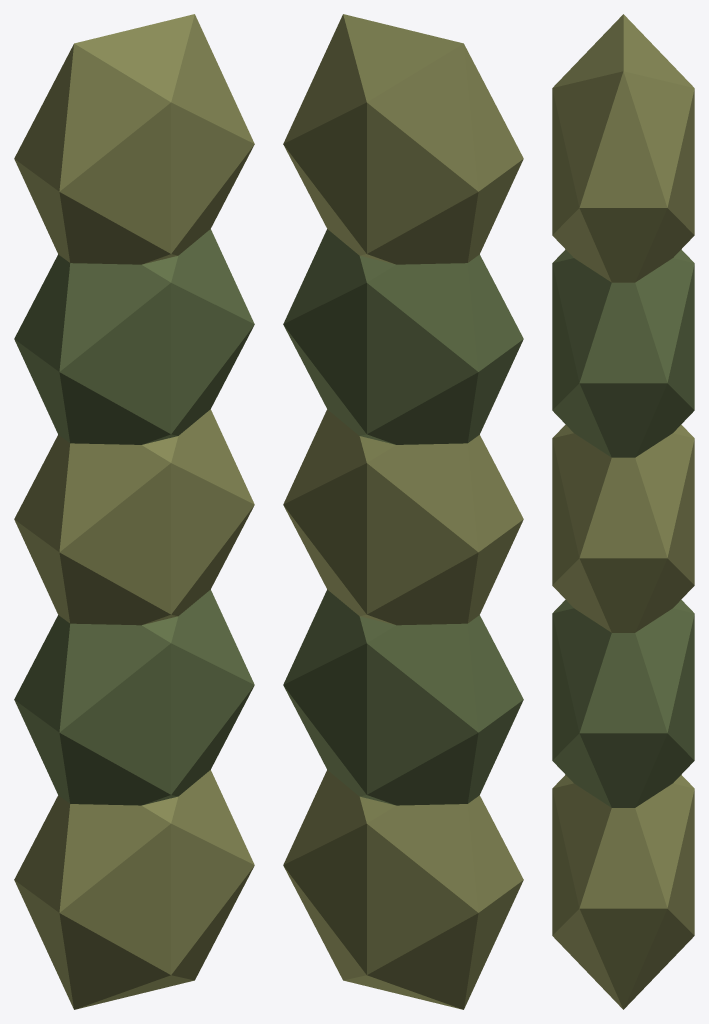
File: vines.glb
3 views of the same model, side by side, from view 1: azimuth 30°, elevation 25°; view 2: azimuth 150°, elevation 25°; view 3: azimuth 270°, elevation 25° (orthographic). The views are drawn at different scales.
Visible parts, largest first — view 1: wind-leaf-0-surface, wind-leaf-4-surface, wind-leaf-2-surface, wind-leaf-1-surface, wind-leaf-3-surface; view 2: wind-leaf-0-surface, wind-leaf-4-surface, wind-leaf-2-surface, wind-leaf-1-surface, wind-leaf-3-surface; view 3: wind-leaf-0-surface, wind-leaf-4-surface, wind-leaf-2-surface, wind-leaf-1-surface, wind-leaf-3-surface.
Part boxes in pixels (x1,y1,x2,y2): wind-leaf-0-surface: (14, 14, 254, 264); wind-leaf-4-surface: (14, 770, 254, 1009); wind-leaf-2-surface: (14, 409, 254, 625); wind-leaf-1-surface: (14, 229, 254, 444); wind-leaf-3-surface: (14, 589, 254, 805); wind-leaf-0-surface: (283, 14, 523, 264); wind-leaf-4-surface: (283, 770, 523, 1009); wind-leaf-2-surface: (283, 409, 523, 625); wind-leaf-1-surface: (283, 229, 523, 444); wind-leaf-3-surface: (283, 589, 523, 805); wind-leaf-0-surface: (552, 14, 694, 282); wind-leaf-4-surface: (552, 775, 694, 1009); wind-leaf-2-surface: (552, 424, 694, 632); wind-leaf-1-surface: (552, 249, 694, 457); wind-leaf-3-surface: (552, 599, 694, 807).
Size of the model in its own units: 0.3403 by 1.61 by 0.2212.
